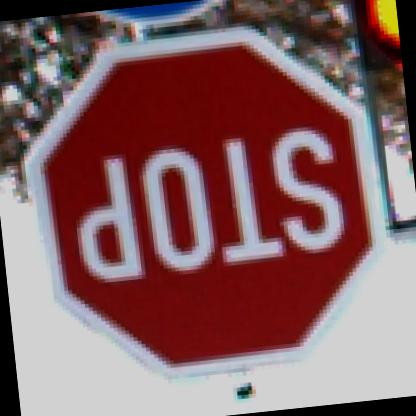stop: (9, 6, 398, 404)
